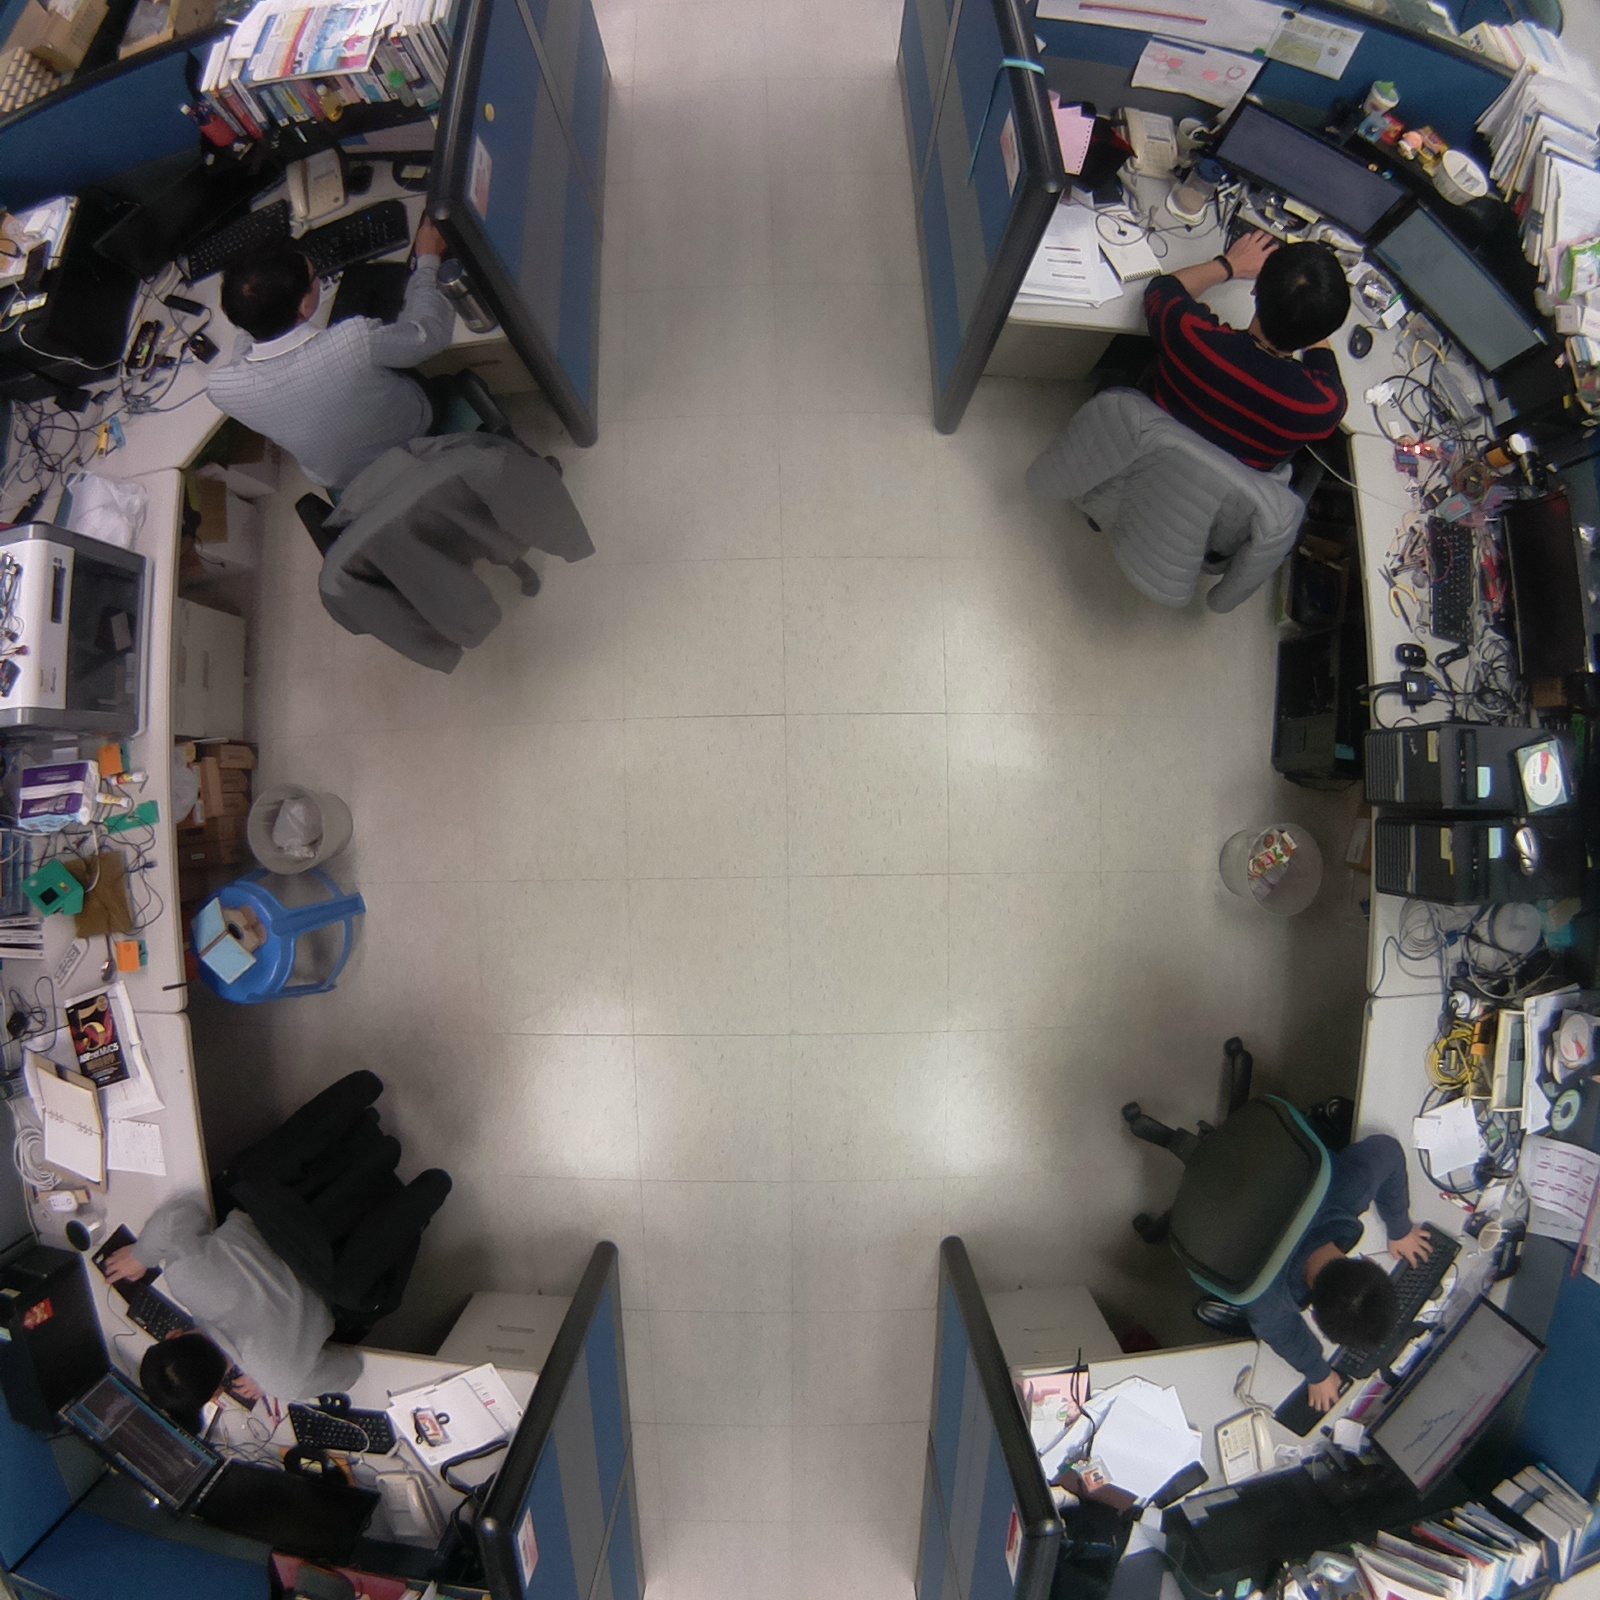head: (1249, 240, 1357, 351), (1302, 1244, 1412, 1353), (212, 236, 329, 336), (134, 1329, 238, 1425)
sitting: (196, 196, 604, 688), (1001, 219, 1365, 634), (91, 1042, 463, 1447), (1088, 1027, 1432, 1427)
